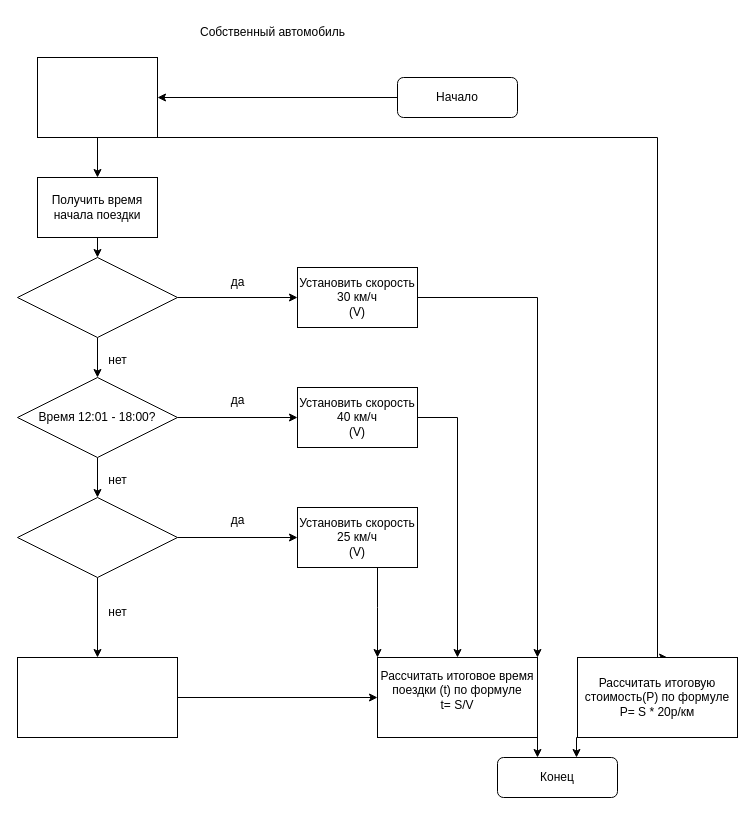
This 755x815 diagram has some shape labels left out. Here are the shapes that lost their labels. From the top down, the centre of each, then its label:
pixel 97 97: Получить расстояние поездки (S)
pixel 97 297: Время 08:01 - 12:00?
pixel 97 537: Время 18:01 - 22:00?
pixel 97 697: Установить скорость 45/км (V)
